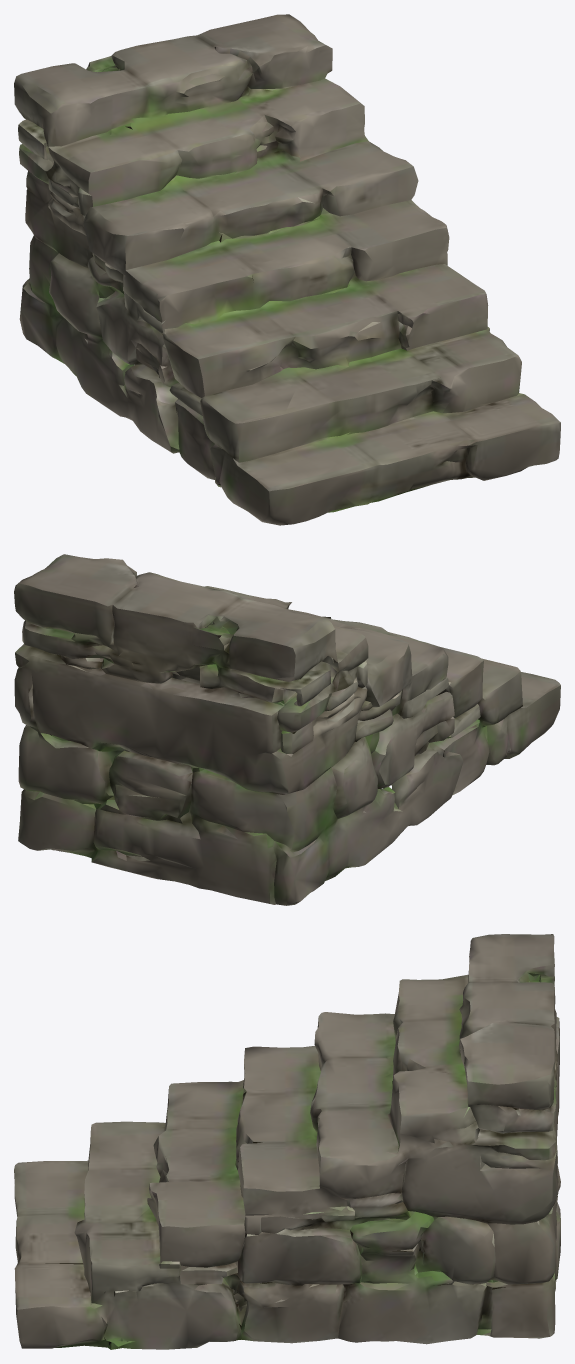
File: StairsStone.glb
3 views of the same model, one above another, from view 1: azimuth 30°, elevation 25°; view 2: azimuth 150°, elevation 25°; view 3: azimuth 270°, elevation 25° (orthographic). The views are drawn at different scales.
Visible parts, largest first — view 1: StairsStone; view 2: StairsStone; view 3: StairsStone.
Part boxes in pixels (<box>): StairsStone: <box>14,14,560,525</box>; StairsStone: <box>14,554,560,905</box>; StairsStone: <box>14,934,560,1349</box>.
Size of the model in its own units: 1.64 by 1.43 by 2.5.
Materials: 1 (1 with a texture image).
